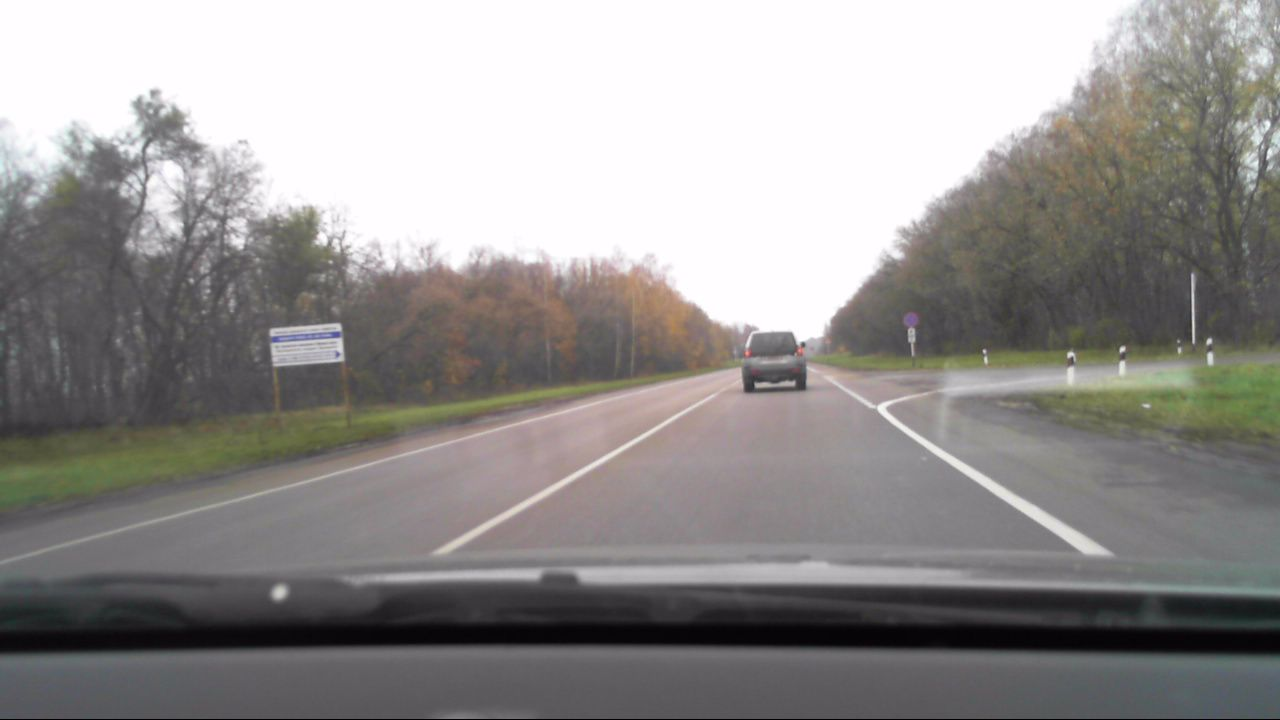No Parking: (901, 313, 919, 329)
